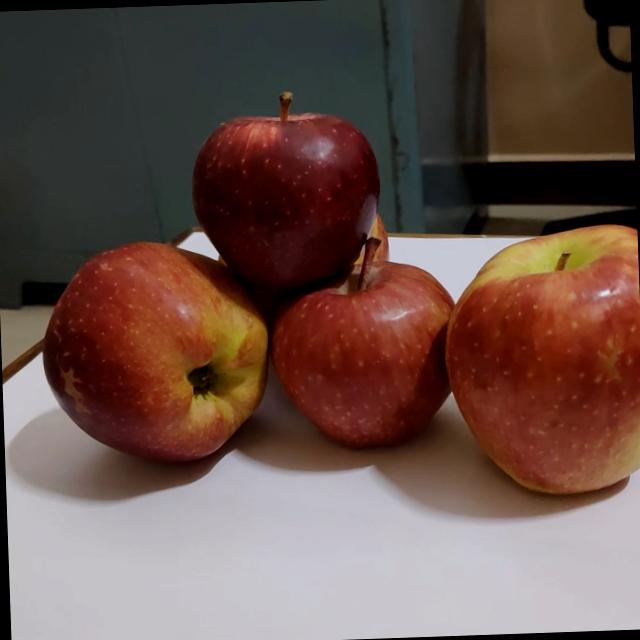apple: (437, 217, 640, 502), (31, 234, 274, 472), (259, 228, 457, 458), (182, 83, 380, 298), (210, 202, 389, 282)
